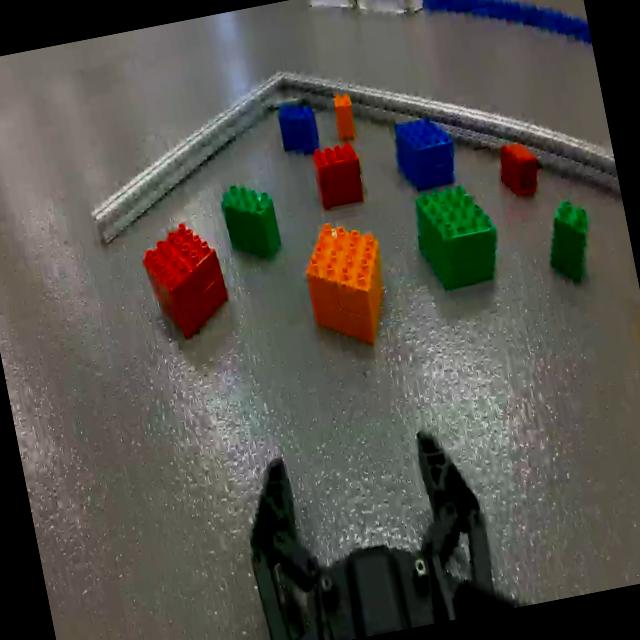blue: (388, 110, 458, 195), (276, 97, 321, 159)
green: (406, 174, 504, 300), (218, 174, 286, 270), (542, 201, 596, 286)
metal barrier: (90, 67, 621, 245)
orange: (299, 217, 402, 359), (332, 92, 358, 141)
red goal: (138, 218, 234, 346), (308, 139, 366, 209), (500, 140, 542, 203)
river: (420, 0, 592, 76)
storage cube: (309, 0, 435, 33)
